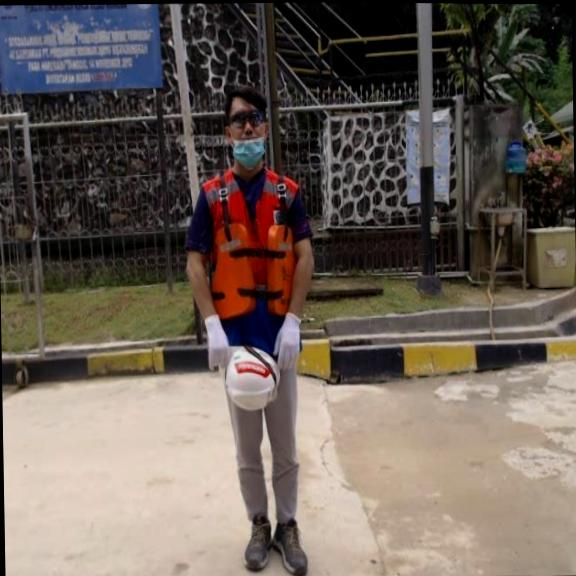safety_vest: (211, 220, 295, 316)
